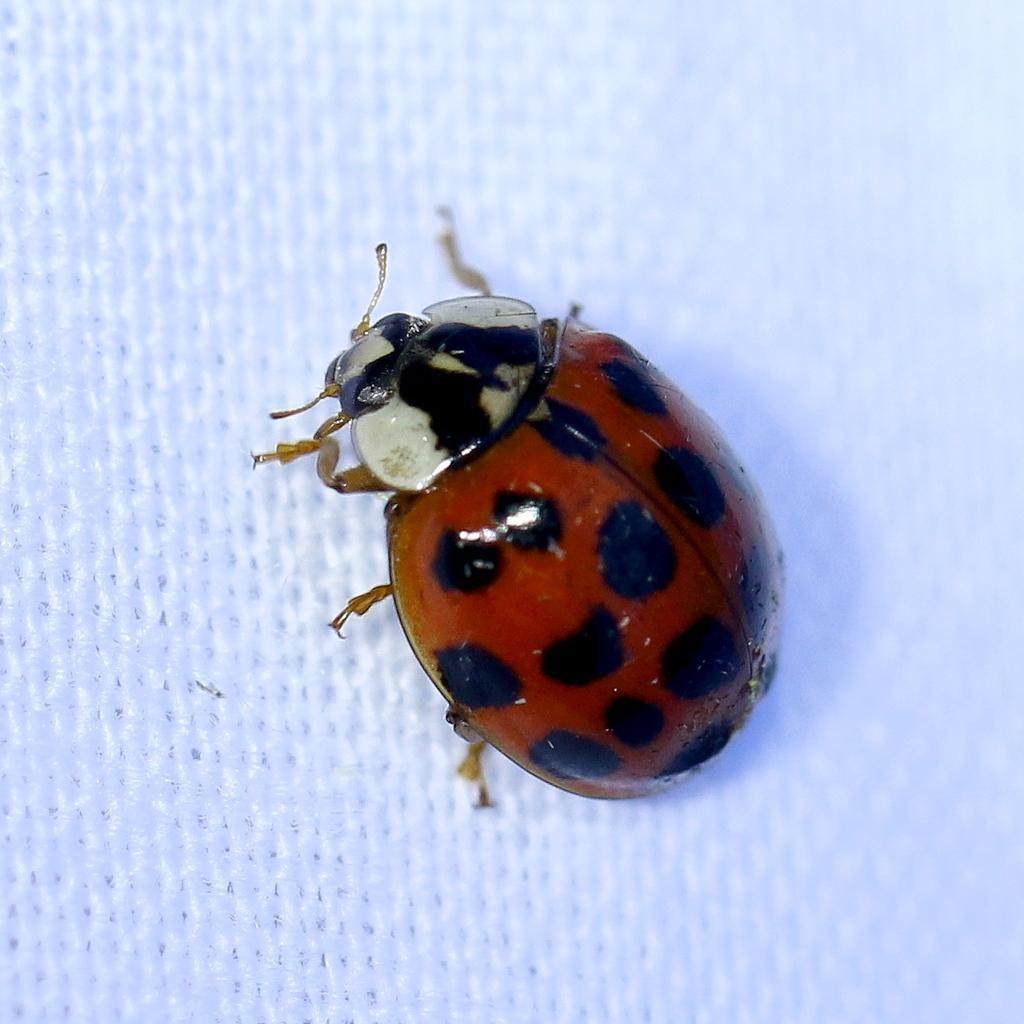ladybug: (246, 199, 796, 821)
